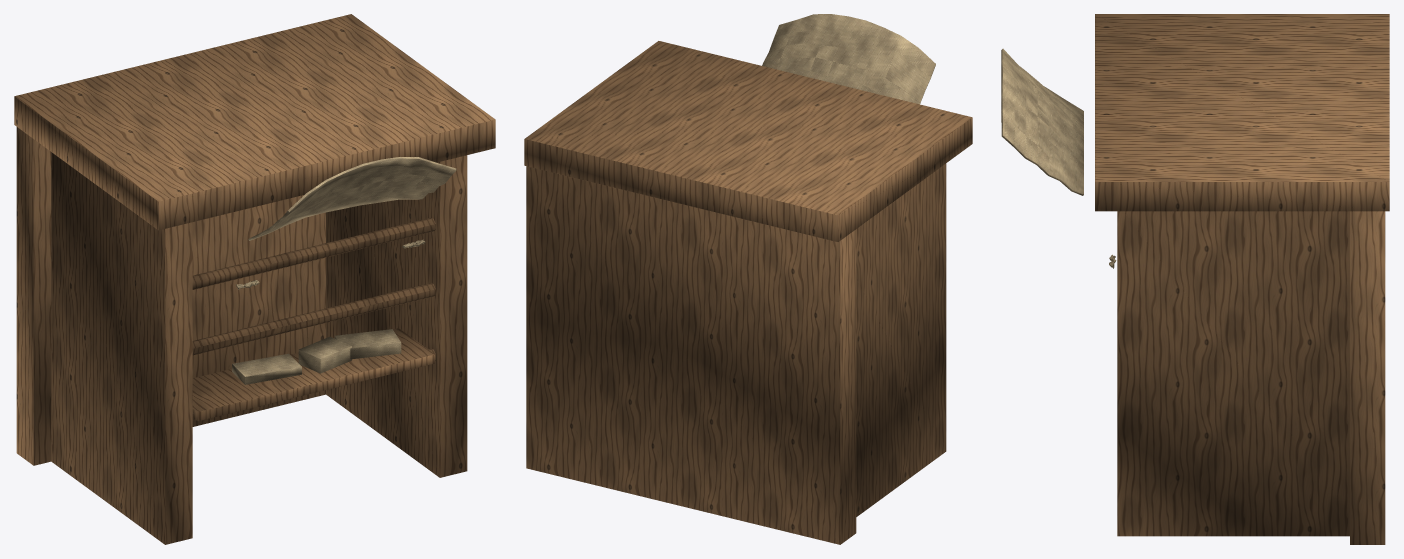
Rendered from booth_cloth.glb.
The picture shows the model from 3 angles, left to right: view 1: azimuth 30°, elevation 25°; view 2: azimuth 150°, elevation 25°; view 3: azimuth 270°, elevation 25°; orthographic projection. The views are drawn at different scales.
Visible parts, largest first — view 1: booth_cloth; view 2: booth_cloth; view 3: booth_cloth.
Part boxes in pixels (left/top/right/bottom): booth_cloth: left=14, top=14, right=495, bottom=544; booth_cloth: left=524, top=14, right=972, bottom=544; booth_cloth: left=1001, top=14, right=1389, bottom=544.
Bounding box in the file's own units: 2.7 × 2.97 × 2.64.
Materials: 2 (2 with a texture image).
